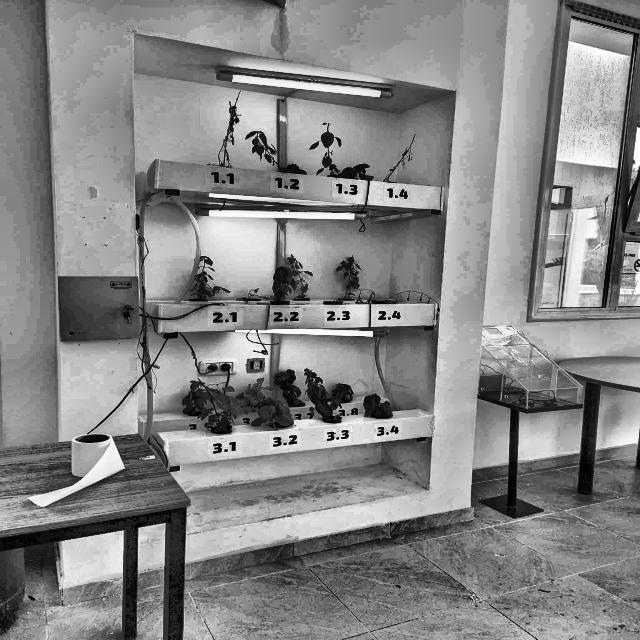plants: (204, 91, 247, 166), (382, 290, 439, 336), (245, 132, 306, 174), (195, 382, 245, 432), (310, 124, 347, 178), (304, 369, 341, 419), (382, 133, 419, 182), (250, 397, 296, 430), (231, 379, 272, 411), (193, 253, 220, 300), (287, 254, 314, 298), (275, 370, 303, 408), (335, 256, 358, 299), (181, 379, 207, 415), (271, 266, 294, 302), (363, 394, 393, 417), (334, 288, 376, 303), (338, 163, 374, 179), (332, 383, 354, 402), (246, 288, 268, 301)
